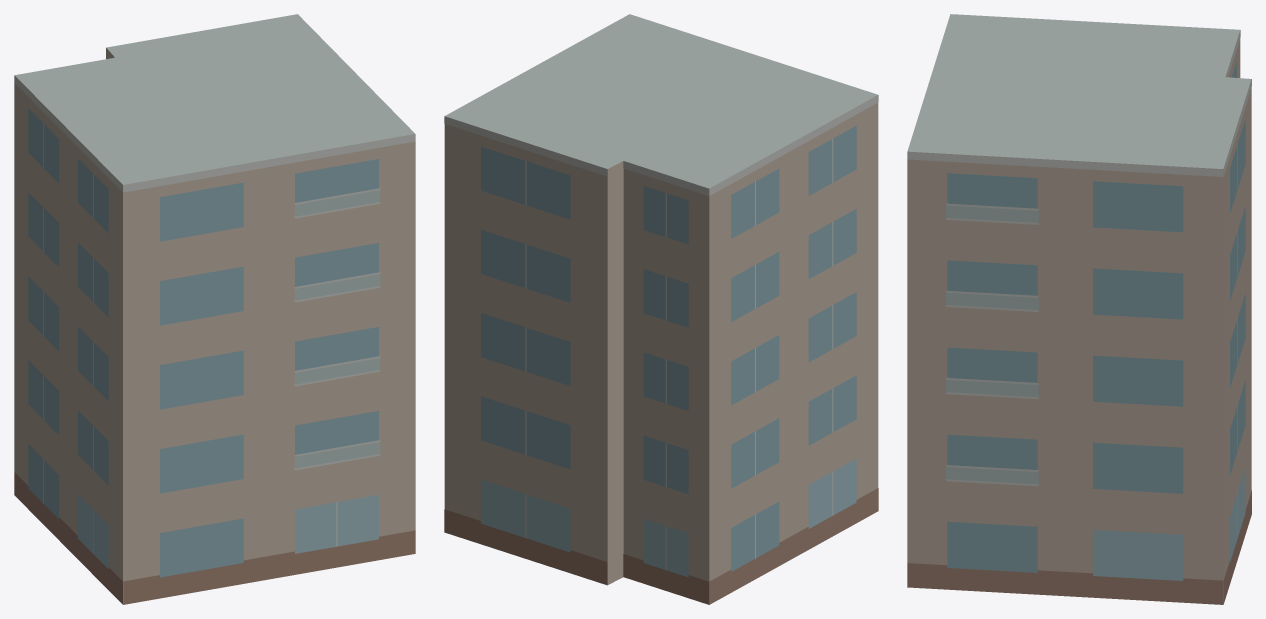
The model's file is survey-upis-32955735.glb.
3 views of the same model, side by side, from view 1: azimuth 30°, elevation 25°; view 2: azimuth 150°, elevation 25°; view 3: azimuth 270°, elevation 25° (orthographic). The views are drawn at different scales.
Visible parts, largest first — view 1: survey-upis-32955735.tmp; view 2: survey-upis-32955735.tmp; view 3: survey-upis-32955735.tmp.
Boxes of the visible parts, x1,y1,x2,y2 form: survey-upis-32955735.tmp: (14, 14, 415, 604); survey-upis-32955735.tmp: (444, 14, 878, 604); survey-upis-32955735.tmp: (907, 14, 1251, 604).
Size of the model in its own units: 10.35 by 13.55 by 9.71.
